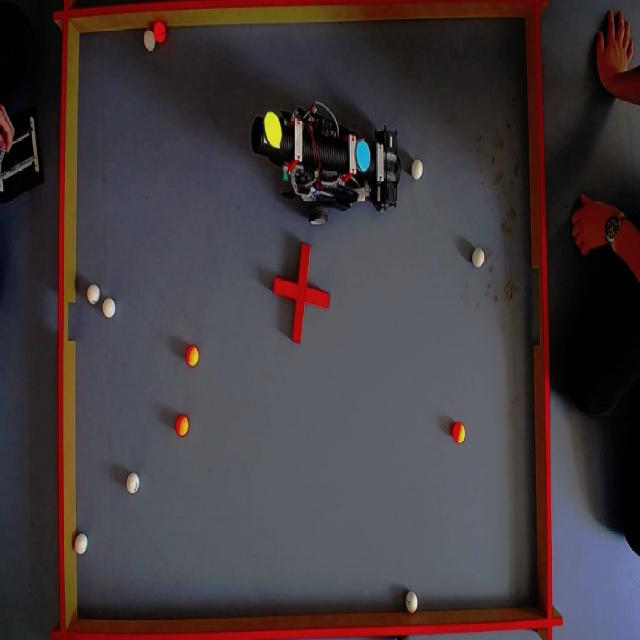orange: (452, 418, 467, 448), (153, 20, 167, 45), (178, 416, 191, 436), (186, 350, 199, 368)
robot: (247, 101, 416, 223)
robot-front: (263, 110, 284, 150)
robot-rear: (352, 138, 372, 172)
white: (76, 534, 90, 557), (102, 297, 116, 320), (404, 592, 419, 612), (127, 473, 140, 495), (142, 31, 155, 52), (88, 286, 100, 306), (411, 160, 423, 180), (474, 250, 486, 269)
